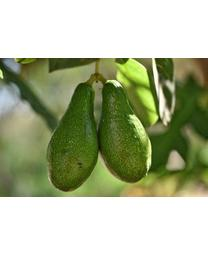avocado: (44, 82, 100, 194), (101, 80, 152, 184)
